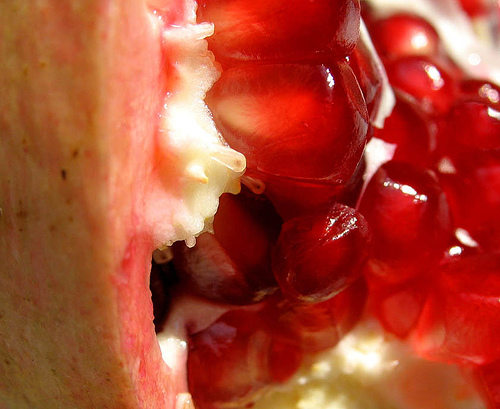pomogranate: (1, 1, 498, 407)
